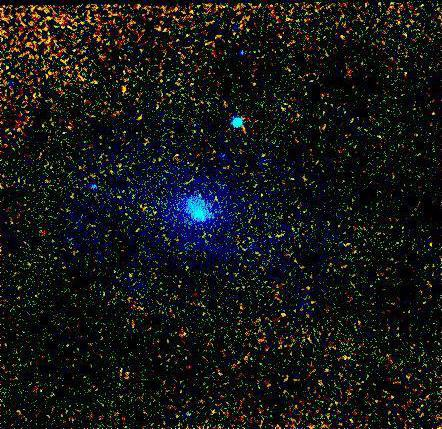star: (113, 82, 143, 112)
